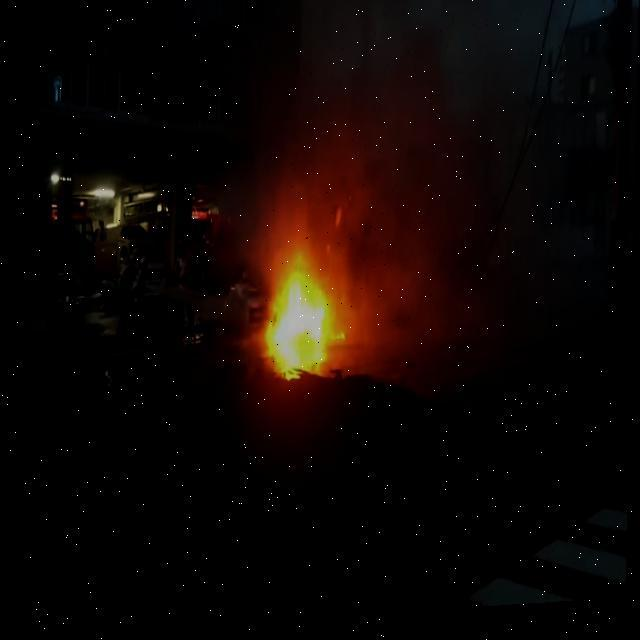Fire: (266, 272, 325, 344)
